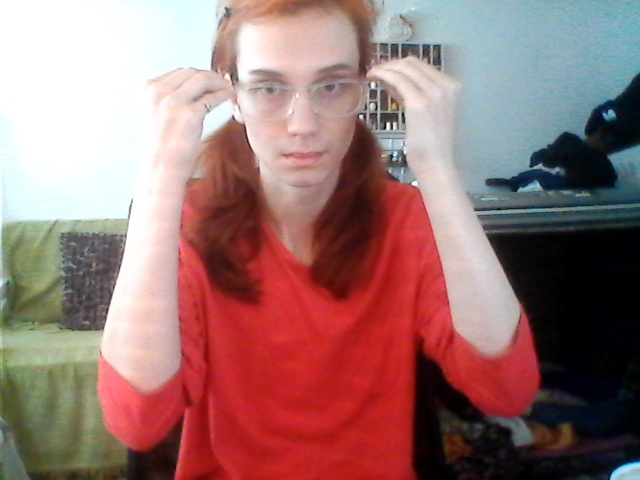ucit: (145, 43, 479, 132)
